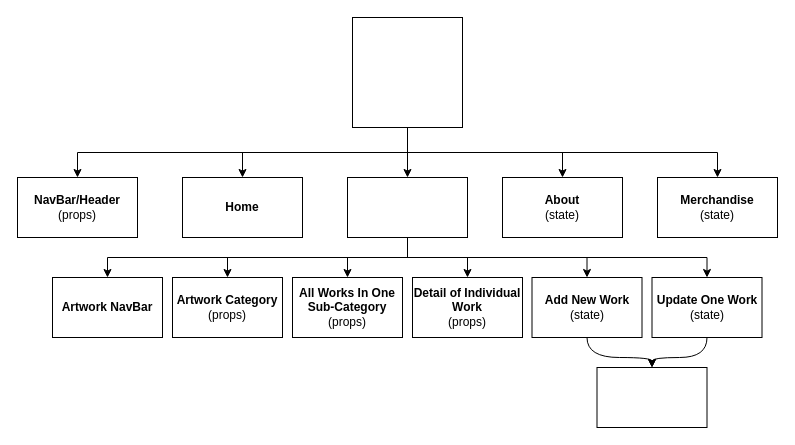
Some shapes in this 795 by 445 pixel diagram are drawn without their labels. Here are the shapes that lost their labels. From the top down, the centre of each, then its label:
At pixel 407 72: "App (state)".
At pixel 407 207: "Artwork (state)".
At pixel 651 397: "Artwork Form (props)".
